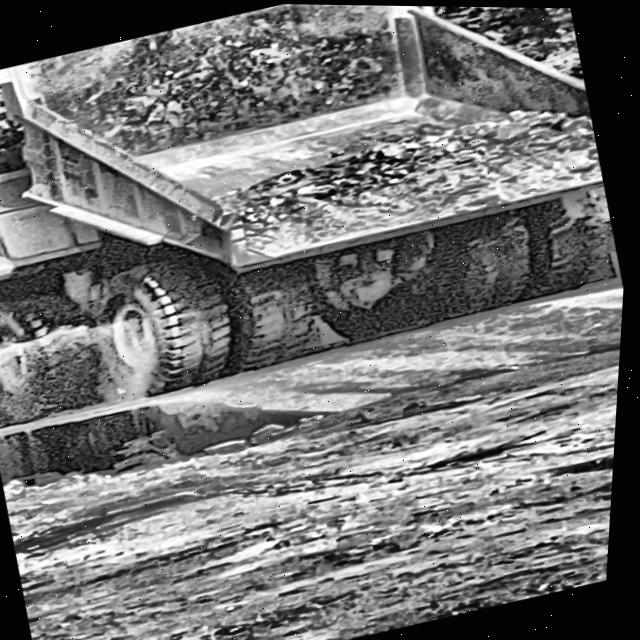dump_truck: (0, 0, 640, 478)
